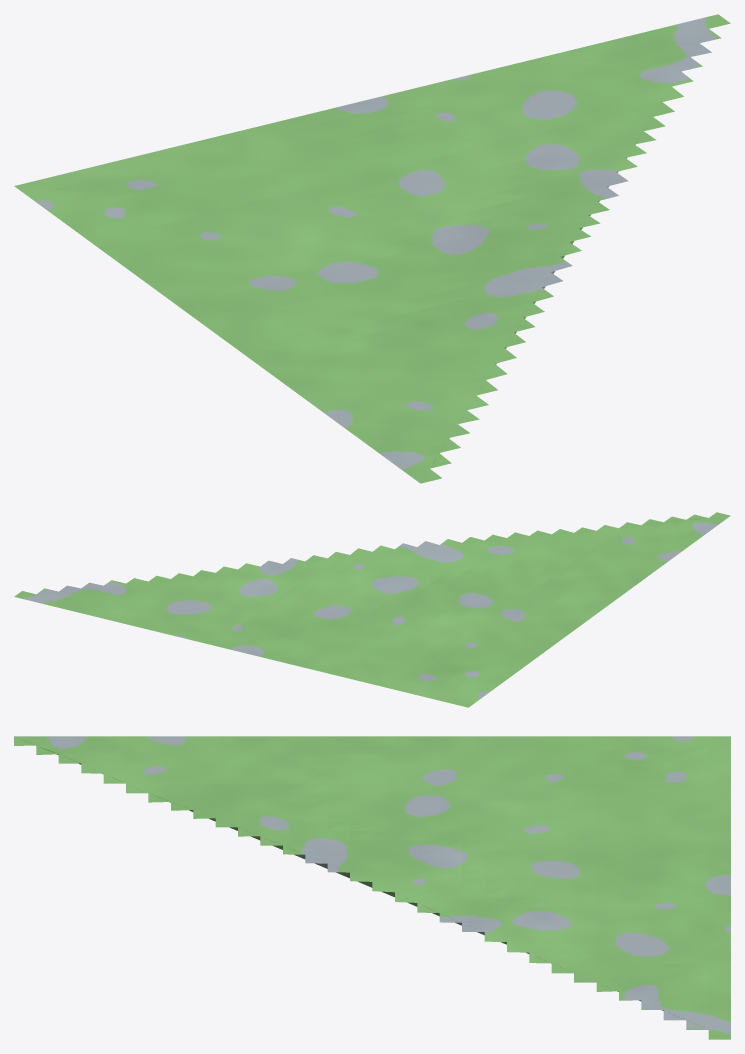
The model's file is Grass_RockyGround_10_SW.obj.
The picture shows the model from 3 angles, top to bottom: view 1: azimuth 30°, elevation 25°; view 2: azimuth 150°, elevation 25°; view 3: azimuth 270°, elevation 25°; orthographic projection. The views are drawn at different scales.
Size of the model in its own units: 10 by 0.1024 by 10.
Materials: 1 (1 with a texture image).
